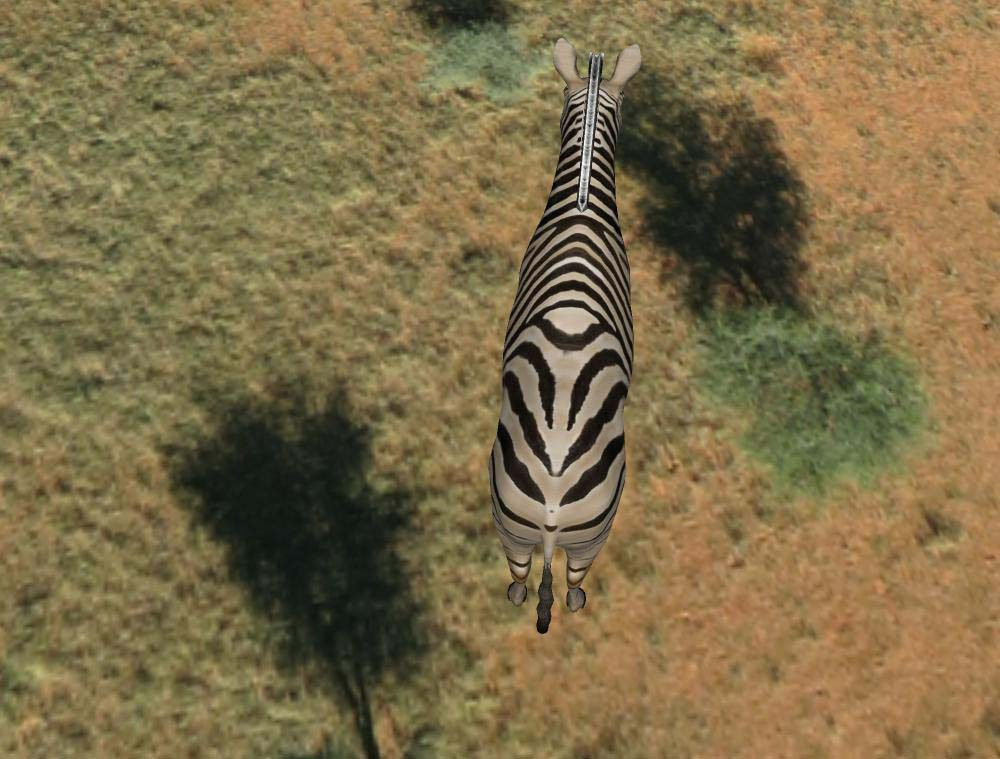zebra: (493, 34, 639, 623)
